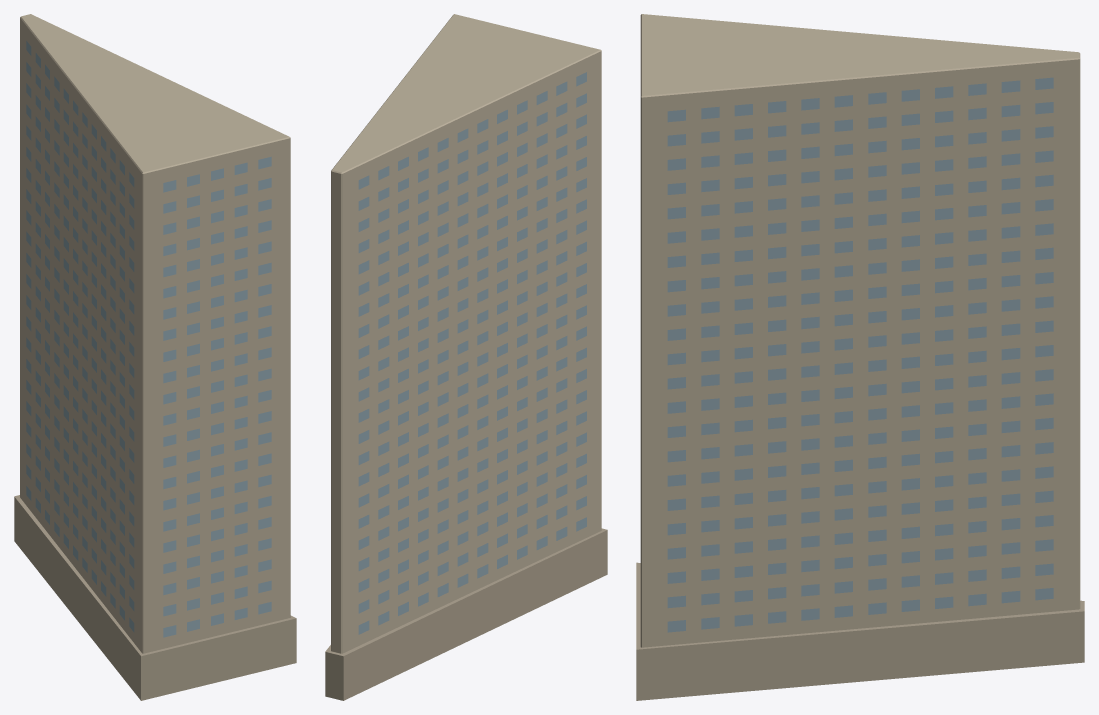
The picture shows the model from 3 angles, left to right: view 1: azimuth 30°, elevation 25°; view 2: azimuth 150°, elevation 25°; view 3: azimuth 270°, elevation 25°; orthographic projection. The views are drawn at different scales.
Parts seen in each view (by area): view 1: wedge-building-lod0; view 2: wedge-building-lod0; view 3: wedge-building-lod0.
Part boxes in pixels (x1,y1,x2,y2): wedge-building-lod0: (14, 14, 296, 700); wedge-building-lod0: (325, 14, 607, 700); wedge-building-lod0: (636, 14, 1084, 700).
Bounding box in the file's own units: 32.63 × 105 × 71.04.
